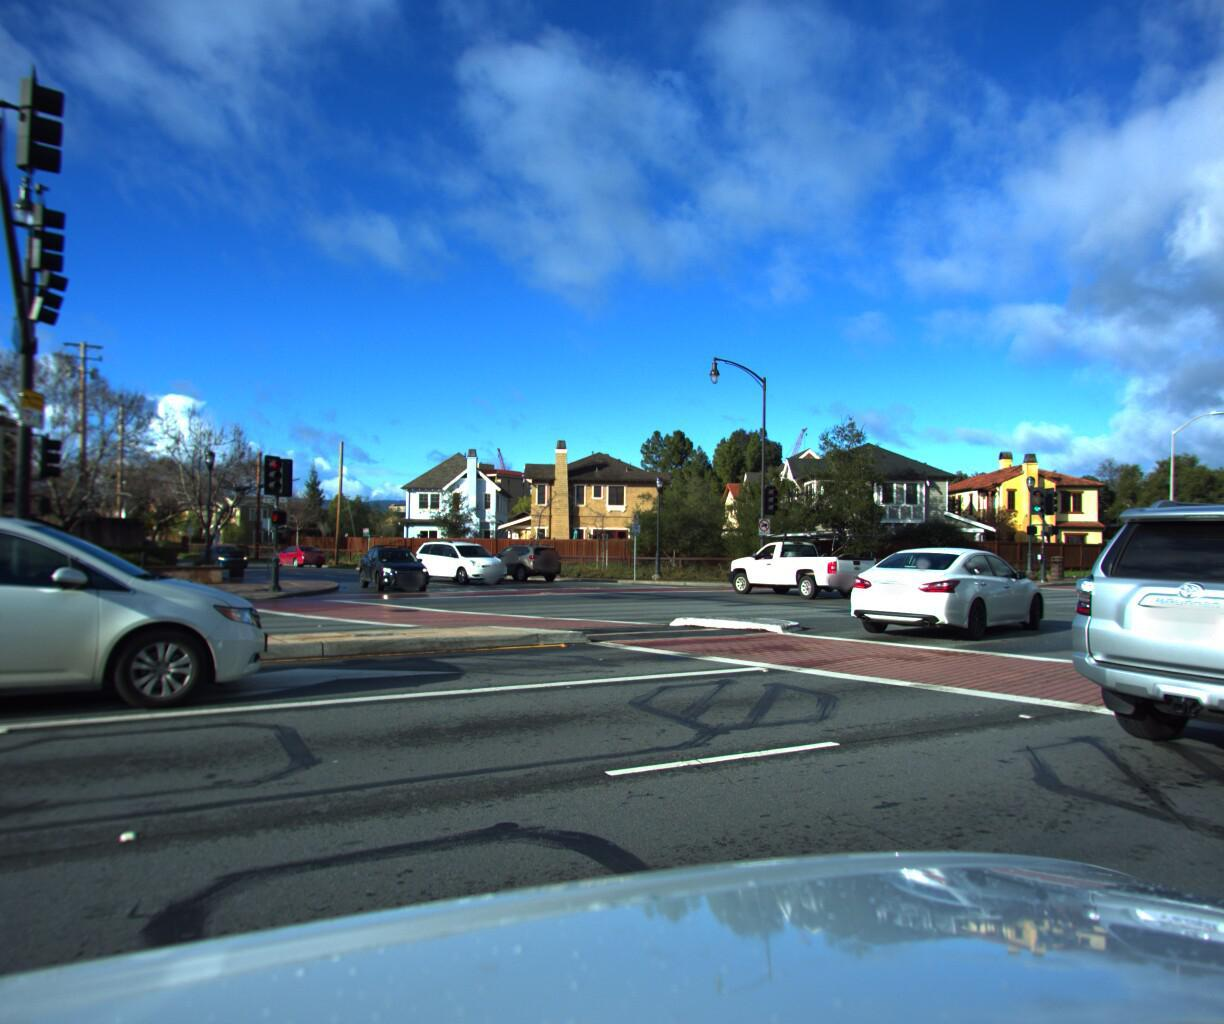car: (0, 488, 294, 761), (1033, 477, 1224, 828), (824, 542, 1060, 642), (724, 520, 889, 598), (403, 535, 515, 583), (354, 539, 433, 590), (477, 541, 565, 579), (195, 542, 252, 568), (269, 543, 328, 567)
